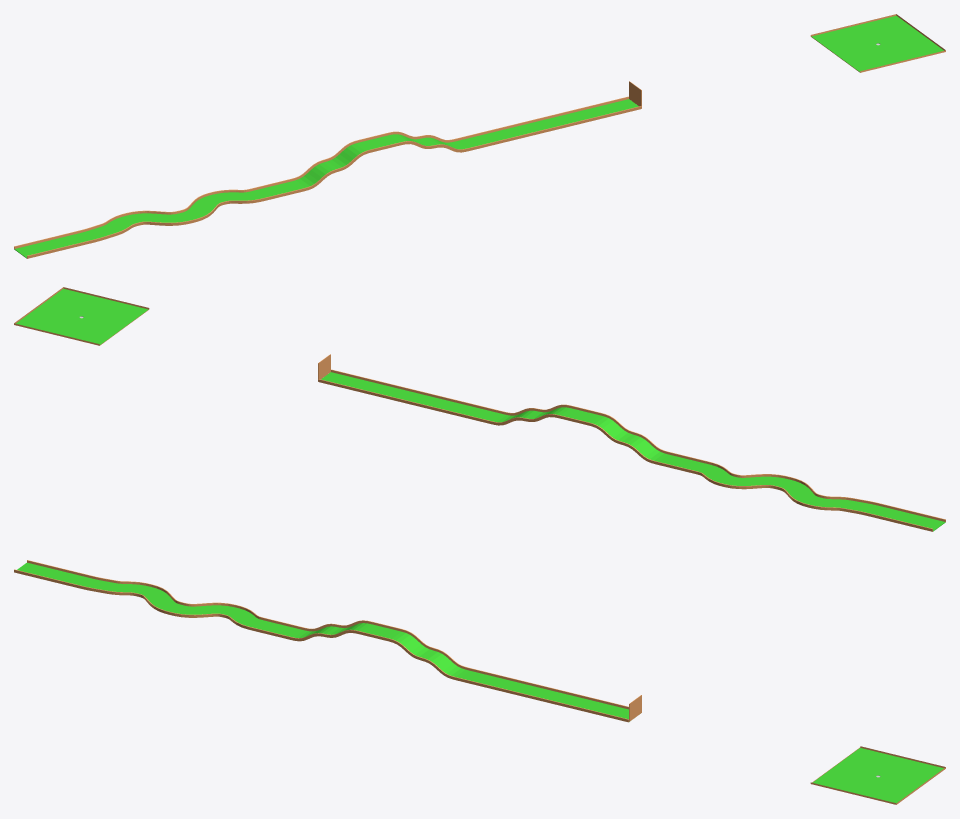
Rendered from m-golf-holes-002.glb.
3 renders of one model, top to bottom at view 1: azimuth 30°, elevation 25°; view 2: azimuth 150°, elevation 25°; view 3: azimuth 330°, elevation 25°, orthographic.
Visible parts, largest first — view 1: 2_Track_Visual, 2_Green_Visual; view 2: 2_Track_Visual, 2_Green_Visual; view 3: 2_Track_Visual, 2_Green_Visual.
Part boxes in pixels (x1=…): 2_Track_Visual: x1=14, y1=96, x2=641, y2=258; 2_Green_Visual: x1=810, y1=14, x2=945, y2=72; 2_Track_Visual: x1=318, y1=369, x2=945, y2=531; 2_Green_Visual: x1=14, y1=287, x2=149, y2=345; 2_Track_Visual: x1=14, y1=560, x2=629, y2=722; 2_Green_Visual: x1=810, y1=746, x2=945, y2=804.
Size of what is drawn, in the model's own units: 84 by 2.35 by 8.
